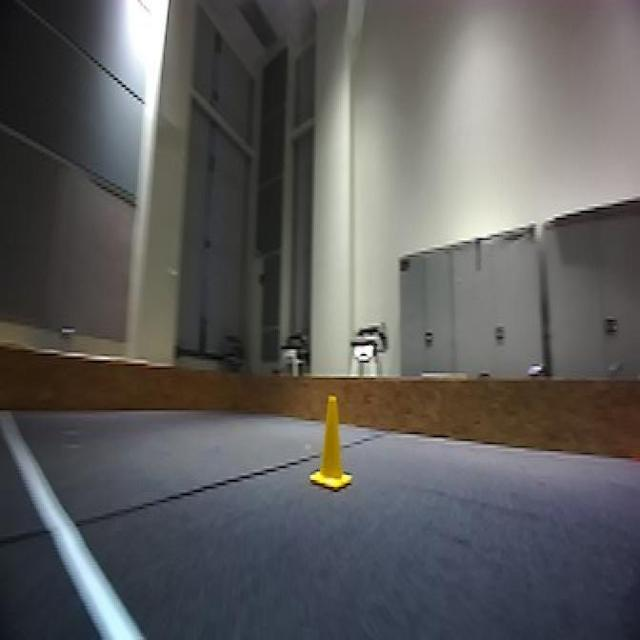frc_cone: (310, 398, 354, 496)
